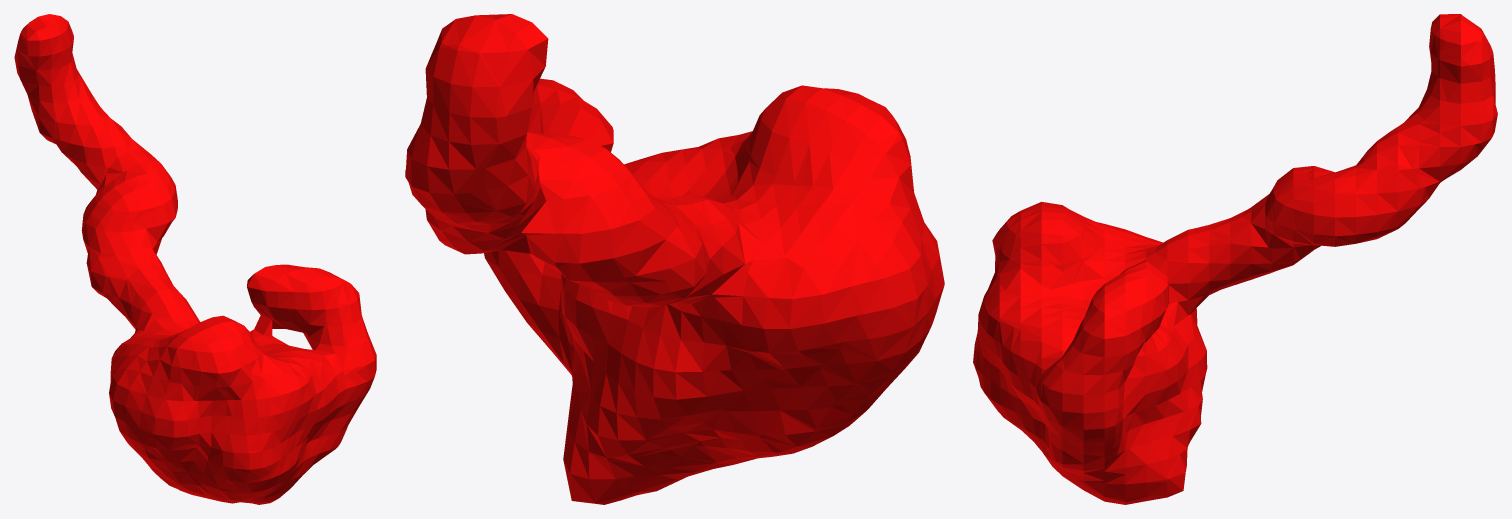
Rendered from ycgL_coarse.dae.
3 renders of one model, left to right at view 1: azimuth 30°, elevation 25°; view 2: azimuth 150°, elevation 25°; view 3: azimuth 270°, elevation 25°, orthographic. The views are drawn at different scales.
Visible parts, largest first — view 1: ycgL; view 2: ycgL; view 3: ycgL.
Part boxes in pixels (x1=…): ycgL: x1=14, y1=14, x2=376, y2=504; ycgL: x1=405, y1=14, x2=944, y2=504; ycgL: x1=973, y1=14, x2=1497, y2=504.
Size of the model in its own units: 43.58 by 65.28 by 69.46.
